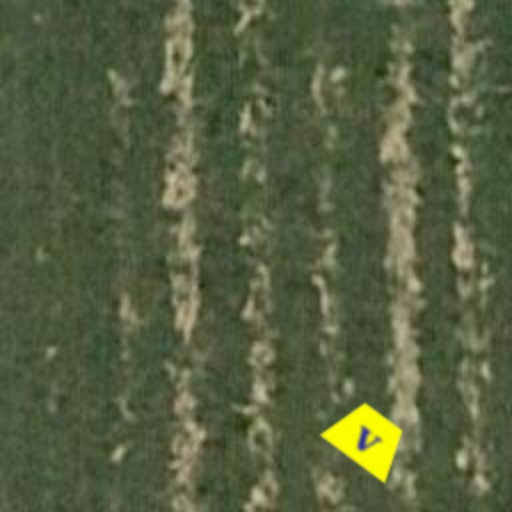trapezoid: (310, 380, 426, 496)
